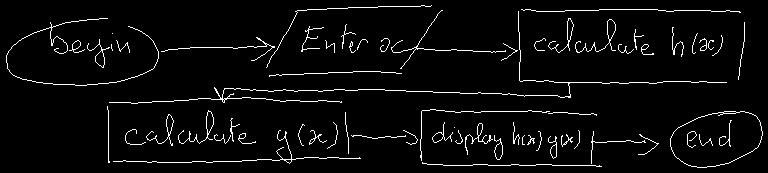arrow: (214, 83, 570, 102), (161, 37, 274, 60), (416, 43, 517, 60), (591, 134, 658, 154), (351, 130, 417, 144)
data: (266, 5, 442, 76)
process: (518, 9, 744, 83), (107, 97, 360, 162), (420, 109, 601, 166)
terminator: (6, 18, 158, 85), (670, 111, 762, 167)
text: (125, 110, 337, 163), (534, 18, 722, 56), (432, 122, 579, 159), (50, 22, 129, 67), (301, 24, 417, 52), (687, 120, 731, 147)
